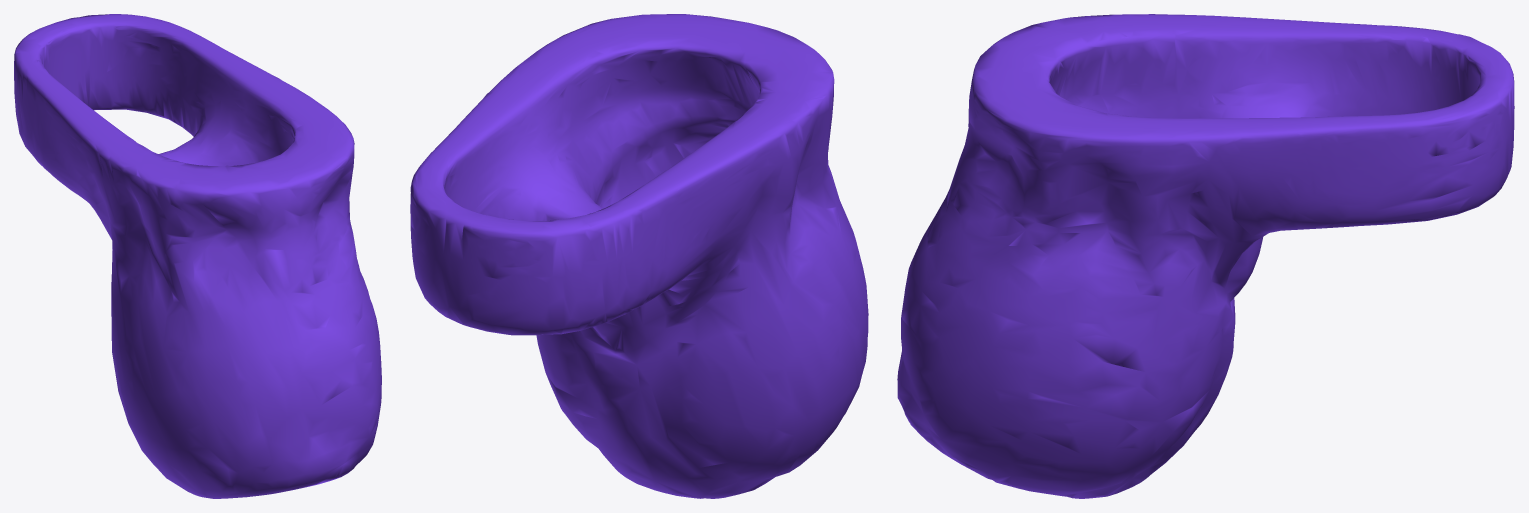
Rendered from wolf-standard-ar.glb.
3 renders of one model, left to right at view 1: azimuth 30°, elevation 25°; view 2: azimuth 150°, elevation 25°; view 3: azimuth 270°, elevation 25°, orthographic. The views are drawn at different scales.
Bounding box in the file's own units: 0.0495 × 0.0703 × 0.0973.
